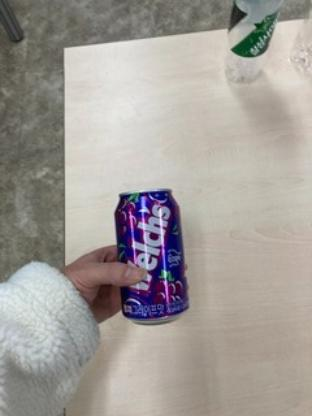Can: (113, 187, 193, 331)
